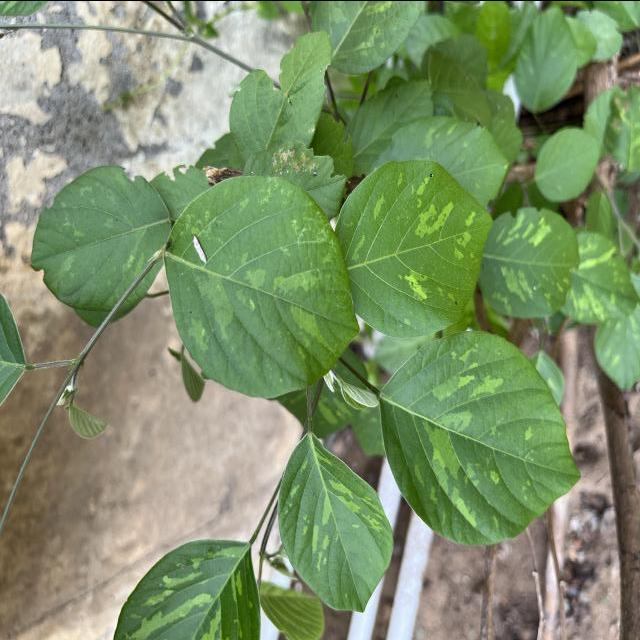Desmodium gangeticum: (378, 326, 584, 548), (334, 156, 496, 340), (274, 426, 396, 614)
